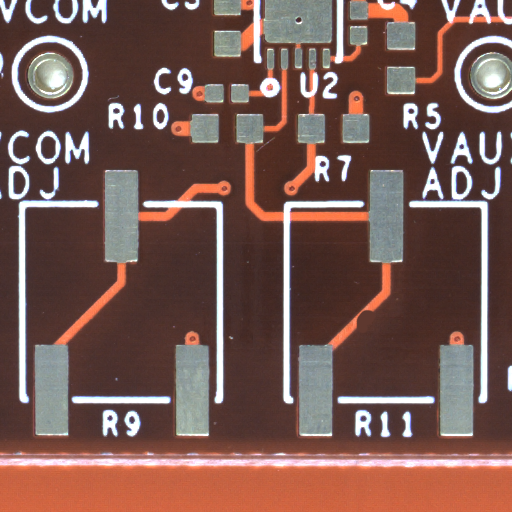Mouse_bite: (365, 320, 392, 348)
